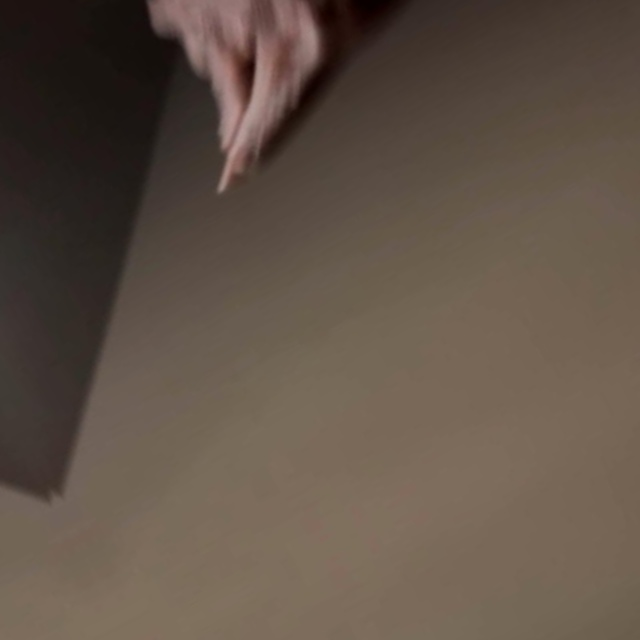Paper: (94, 0, 613, 201)
